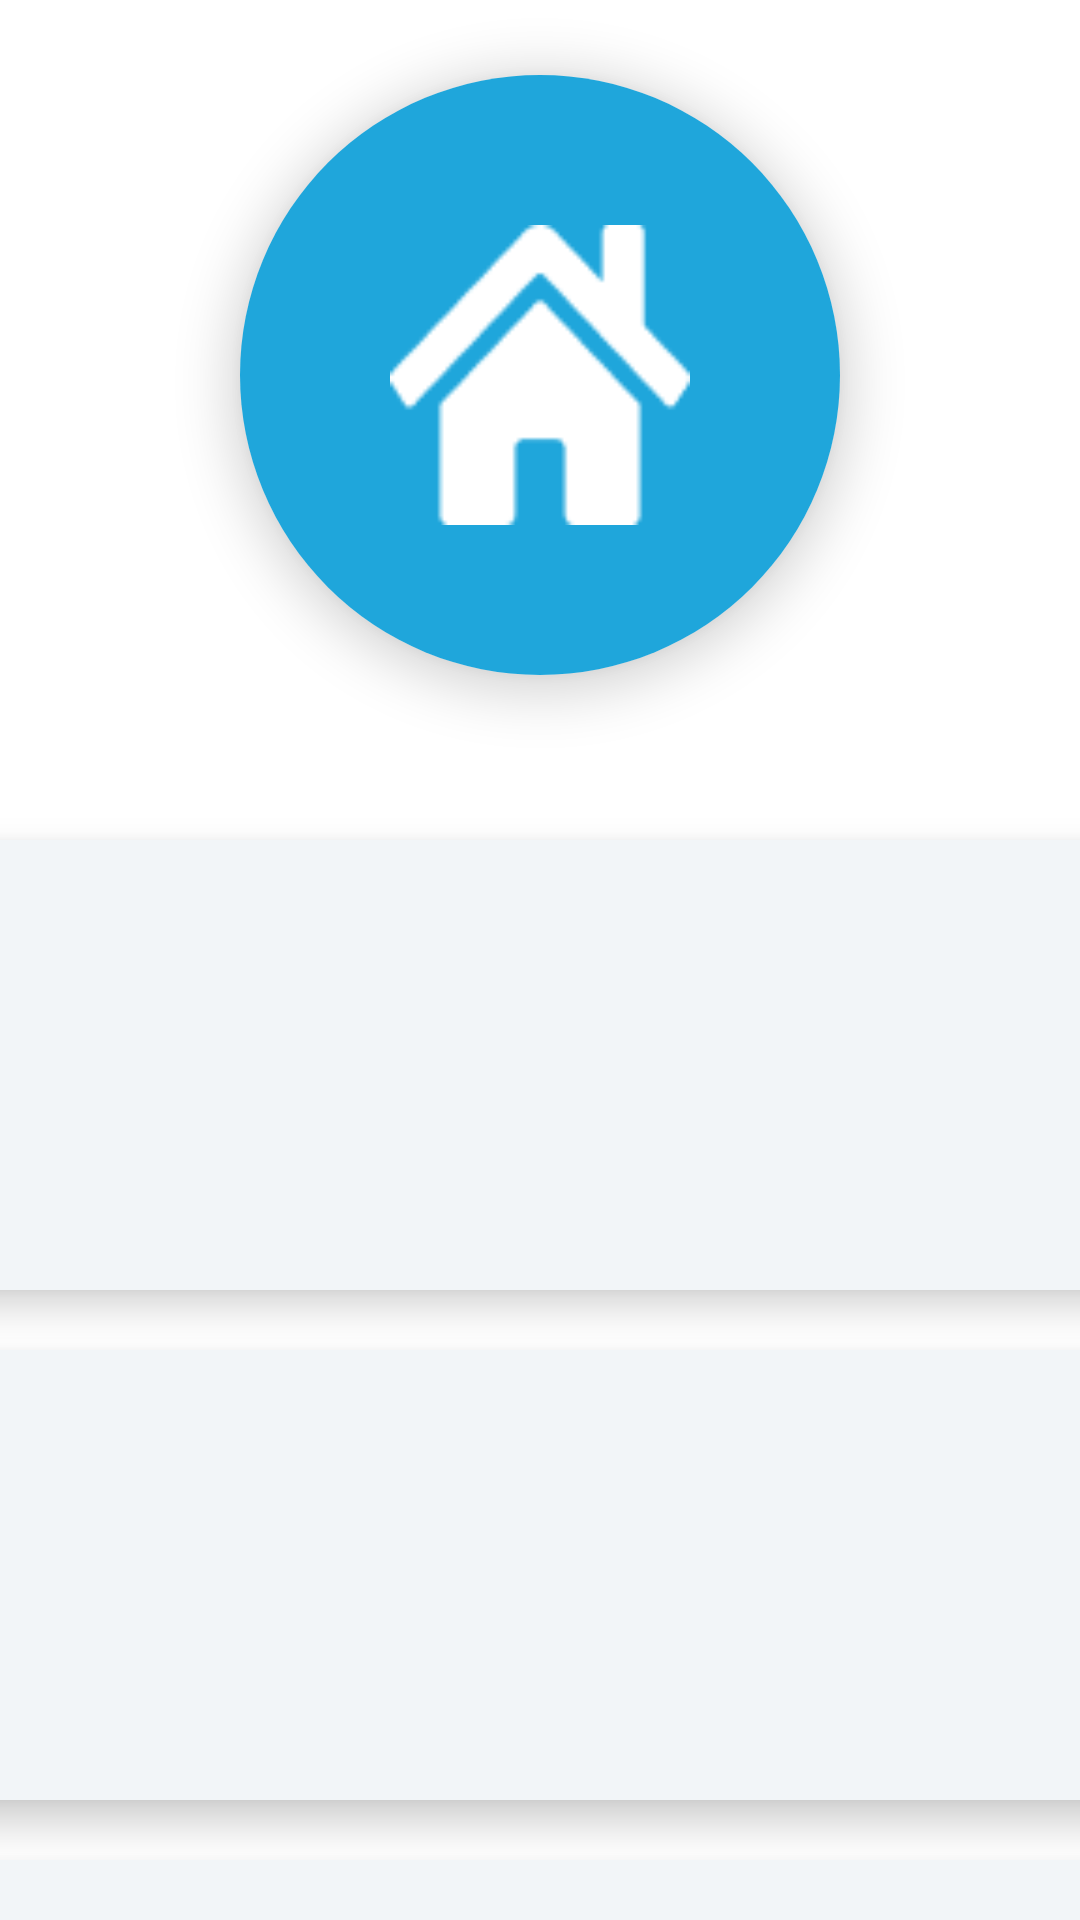

Screen size 1080px x 1920px. Icon name, then its box in pixels as [x1=x1, y1=y1, x2=x2, y2=y2]:
home page: [x1=390, y1=225, x2=690, y2=525]
